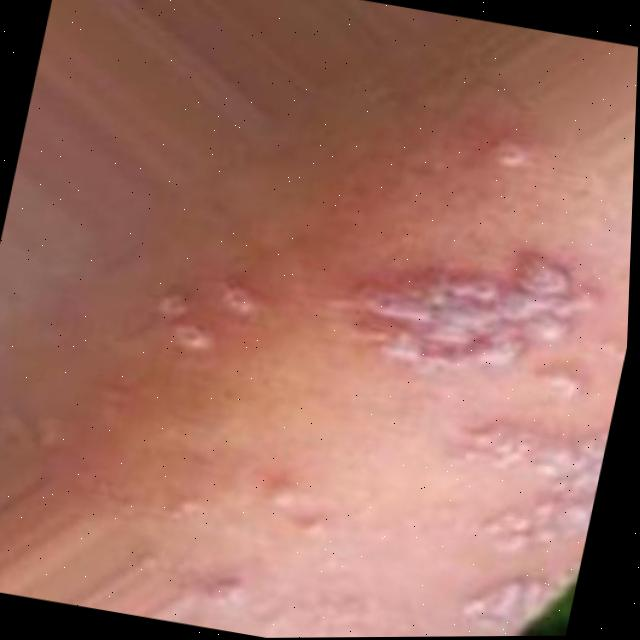Shingles: (286, 201, 632, 638), (134, 269, 263, 368)
